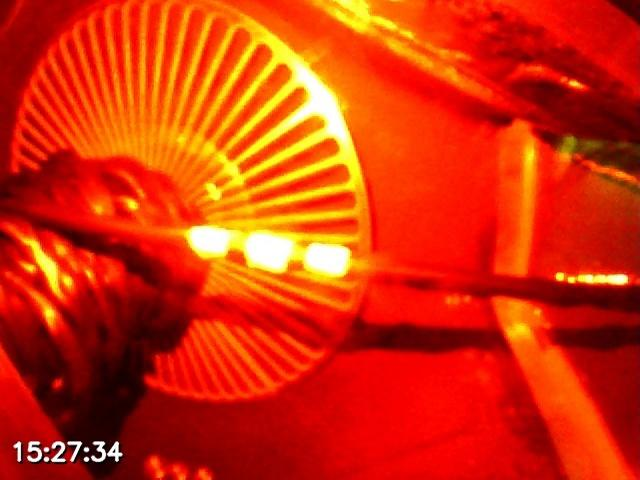white-dots: (184, 225, 351, 279)
